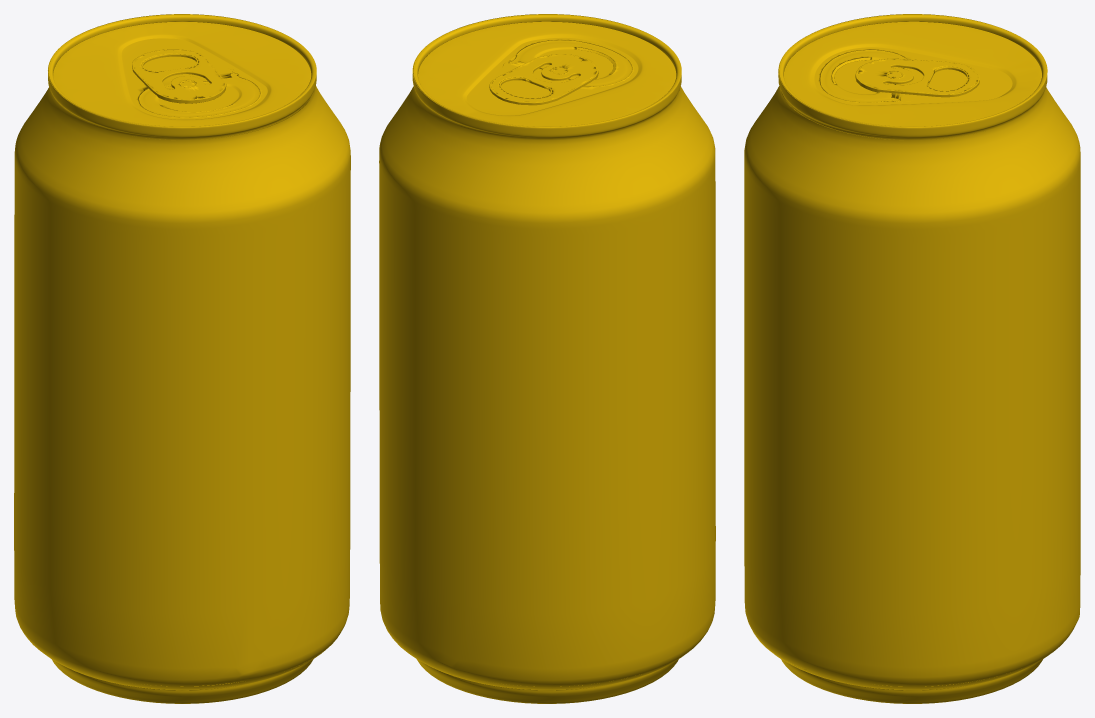
File: UMUM_BOTOL.fbx
The picture shows the model from 3 angles, left to right: view 1: azimuth 30°, elevation 25°; view 2: azimuth 150°, elevation 25°; view 3: azimuth 270°, elevation 25°; orthographic projection.
Visible parts, largest first — view 1: FIZZYFAZ Freddy; view 2: FIZZYFAZ Freddy; view 3: FIZZYFAZ Freddy.
Part boxes in pixels (bbox=[...]): FIZZYFAZ Freddy: bbox=[14, 14, 350, 703]; FIZZYFAZ Freddy: bbox=[379, 14, 715, 703]; FIZZYFAZ Freddy: bbox=[744, 14, 1080, 703].
Size of the model in its own units: 17.56 by 33.18 by 17.53.
